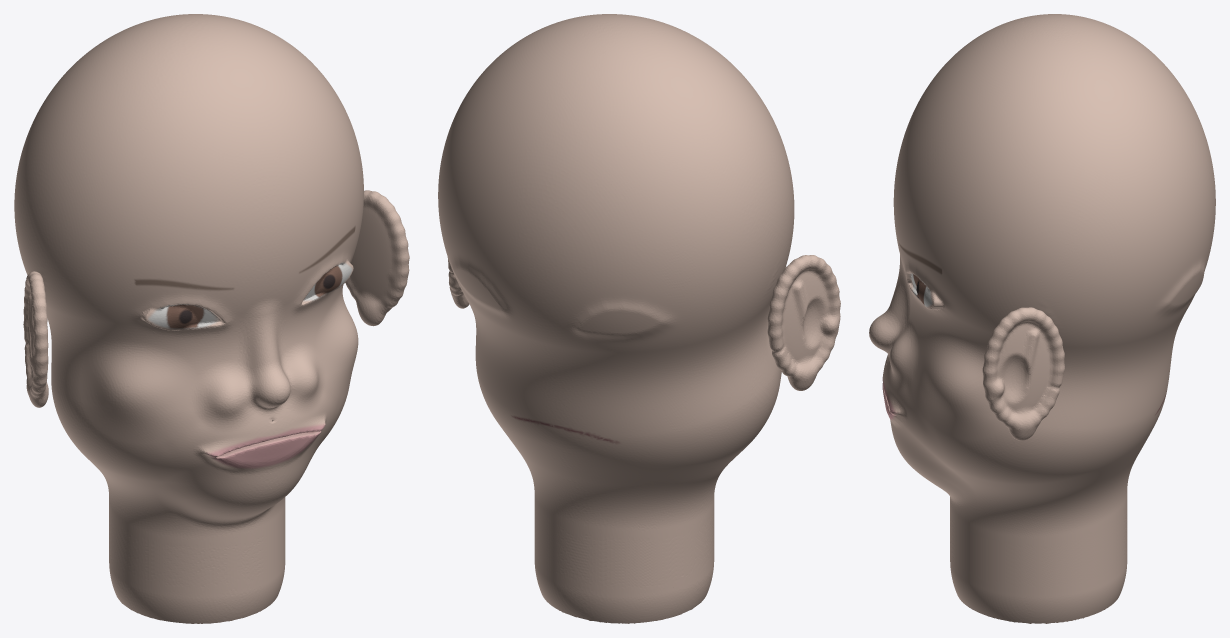
The model's file is karma_face_stage1_P_neutral_EXPERIMENT.glb.
3 views of the same model, side by side, from view 1: azimuth 30°, elevation 25°; view 2: azimuth 150°, elevation 25°; view 3: azimuth 270°, elevation 25° (orthographic).
Parts seen in each view (by area): view 1: head; view 2: head; view 3: head.
Part boxes in pixels (<box>): head: <box>14,14,409,623</box>; head: <box>438,14,840,623</box>; head: <box>869,14,1215,623</box>.
Size of the model in its own units: 2.7 by 3.83 by 2.15.
